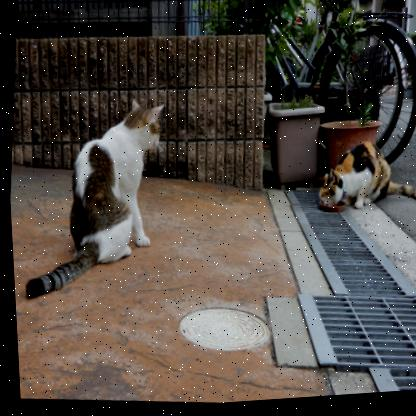cat: (62, 96, 171, 267), (315, 136, 395, 212)
